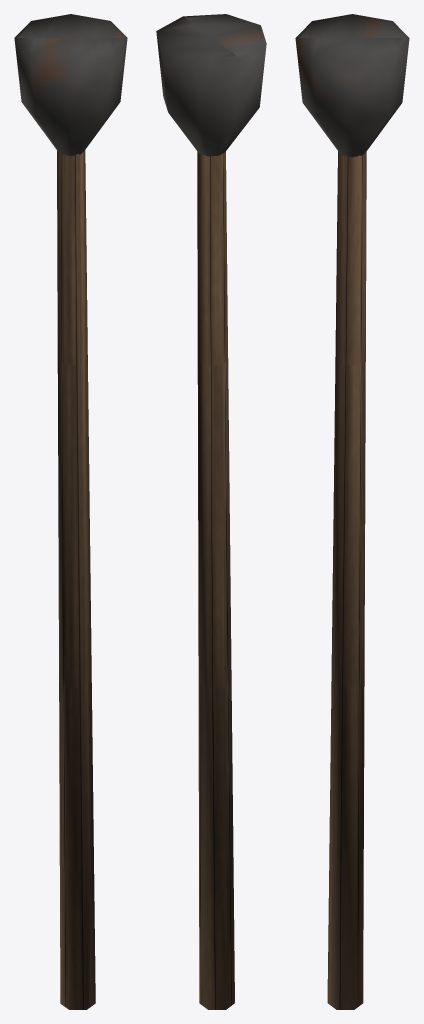
File: Torch_Pole_1.gltf
3 renders of one model, left to right at view 1: azimuth 90°, elevation 25°; view 2: azimuth 210°, elevation 25°; view 3: azimuth 270°, elevation 25°, orthographic.
Parts seen in each view (by area): view 1: Torch_Pole_1; view 2: Torch_Pole_1; view 3: Torch_Pole_1.
Part boxes in pixels (left/top/right/bottom): Torch_Pole_1: left=14, top=14, right=127, bottom=1009; Torch_Pole_1: left=156, top=14, right=266, bottom=1009; Torch_Pole_1: left=295, top=14, right=409, bottom=1009.
Bounding box in the file's own units: 0.32 × 3 × 0.32.
Materials: 3 (3 with a texture image).
